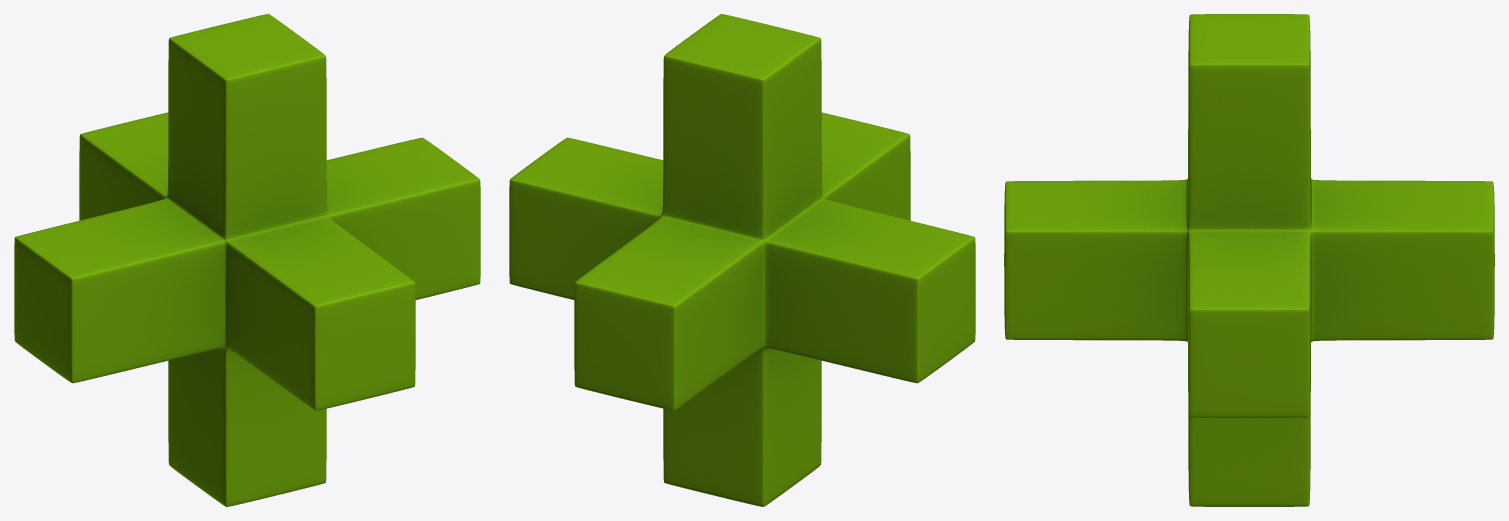
3 views of the same model, side by side, from view 1: azimuth 30°, elevation 25°; view 2: azimuth 150°, elevation 25°; view 3: azimuth 270°, elevation 25° (orthographic). The views are drawn at different scales.
Parts seen in each view (by area): view 1: Cube; view 2: Cube; view 3: Cube.
Part boxes in pixels (bbox=[...]): Cube: bbox=[14, 14, 480, 506]; Cube: bbox=[509, 14, 975, 506]; Cube: bbox=[1004, 14, 1494, 506].
Size of the model in its own units: 8 by 8 by 8.
1 material, 1 textured.
